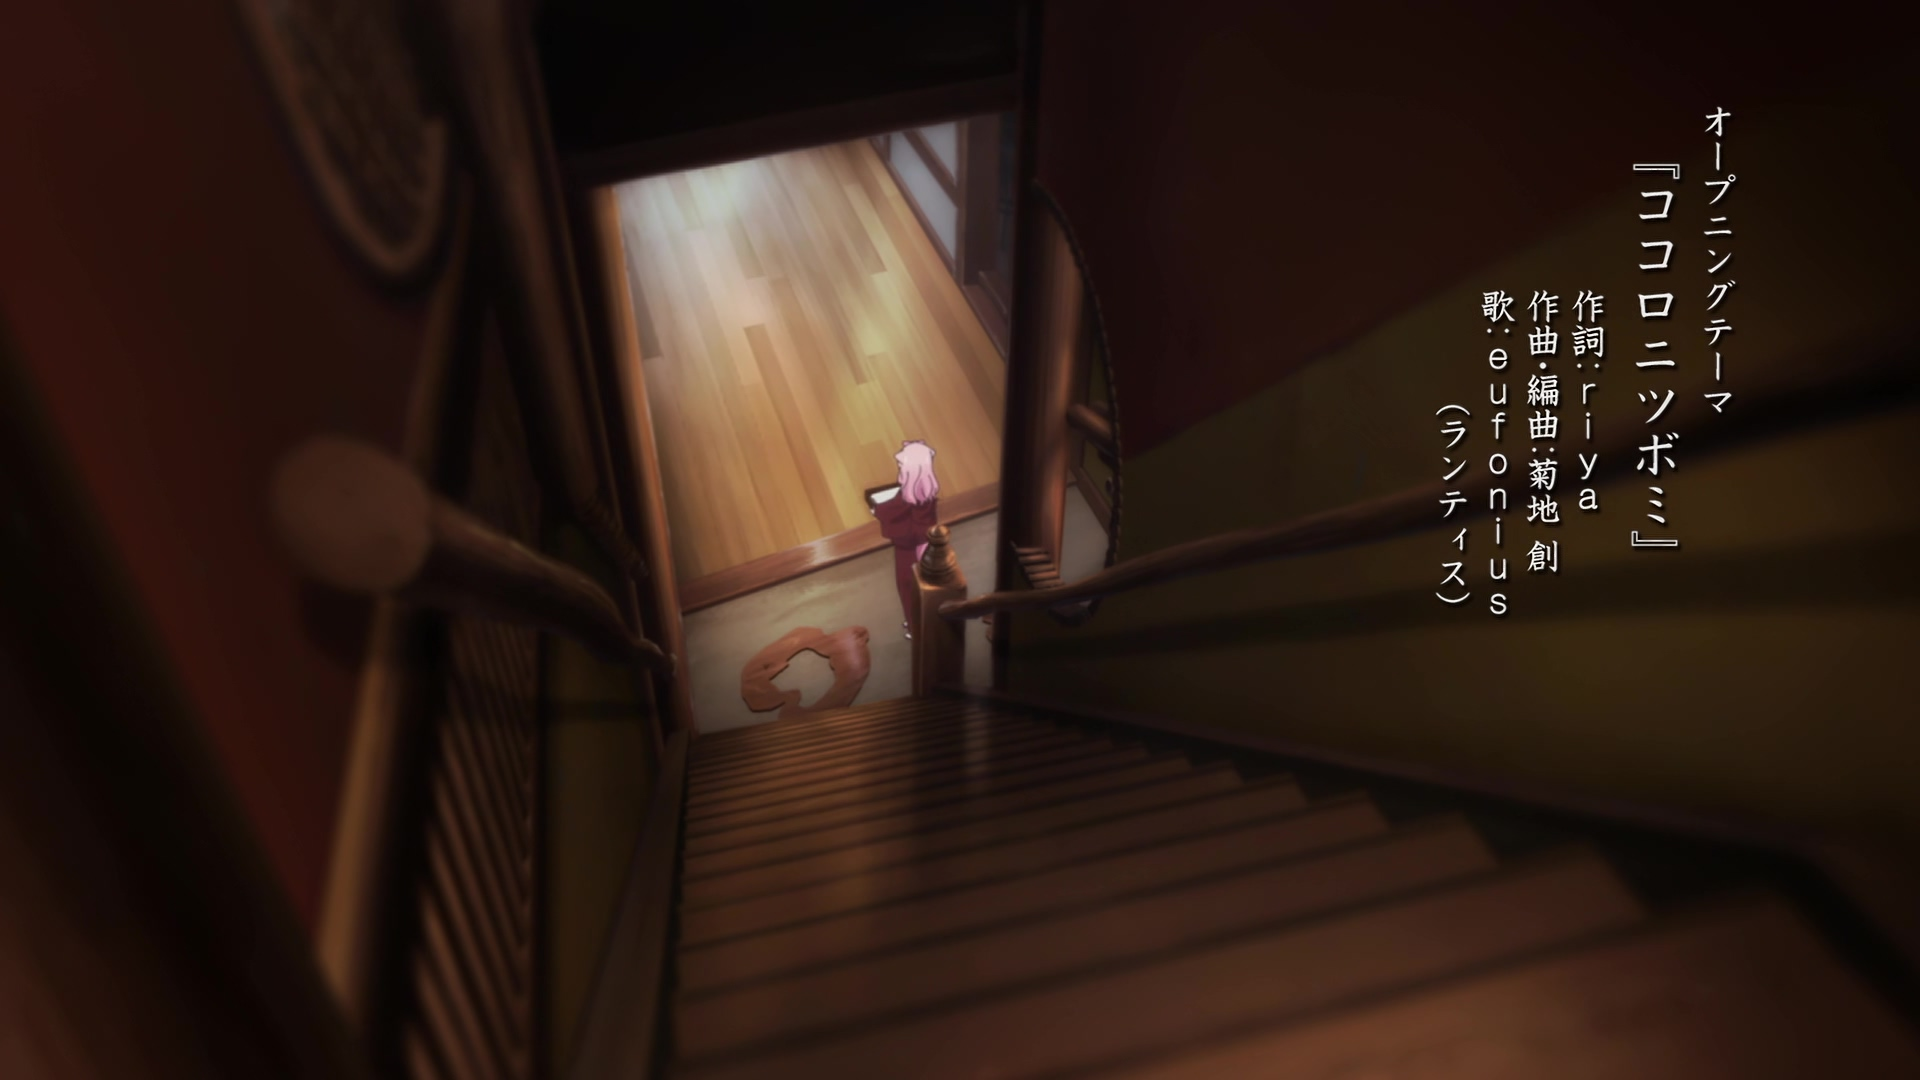莲: (869, 442, 944, 641)
